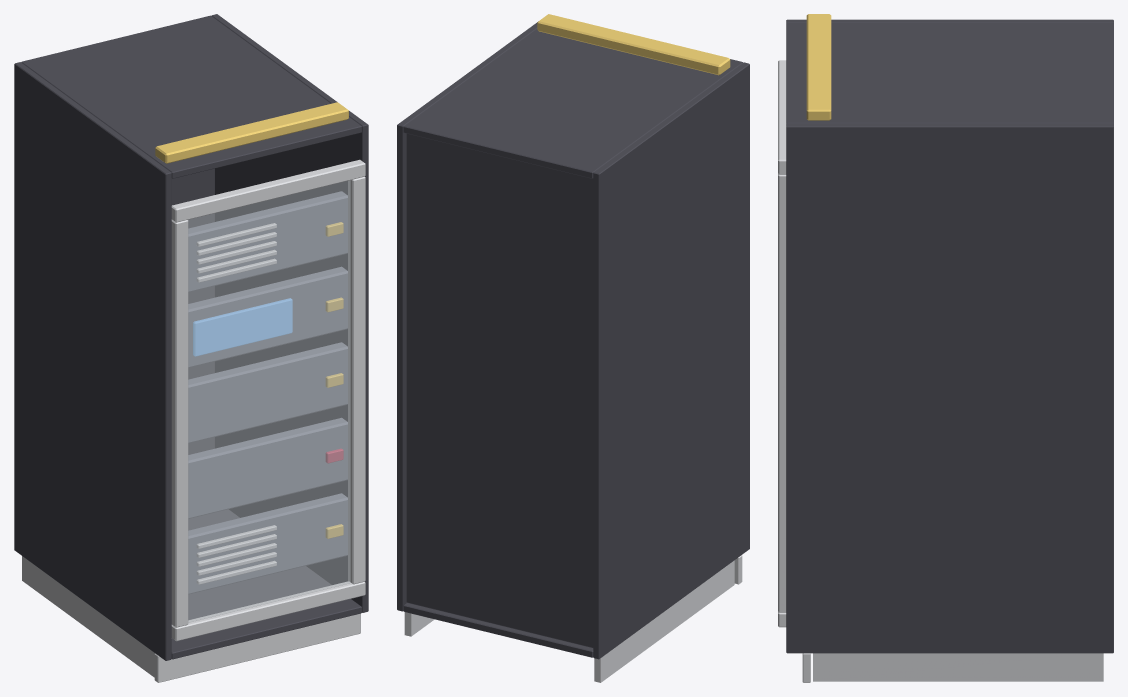
Rendered from cinema-multiplex-and-foyer-projector-server-rack-a24a3778__34662.glb.
The picture shows the model from 3 angles, left to right: view 1: azimuth 30°, elevation 25°; view 2: azimuth 150°, elevation 25°; view 3: azimuth 270°, elevation 25°; orthographic projection. The views are drawn at different scales.
Visible parts, largest first — view 1: projector-server-rack; view 2: projector-server-rack; view 3: projector-server-rack.
Boxes of the visible parts, x1,y1,x2,y2 form: projector-server-rack: [14, 14, 368, 682]; projector-server-rack: [397, 14, 749, 682]; projector-server-rack: [778, 14, 1113, 682].
Bounding box in the file's own units: 0.6199 × 1.53 × 0.82.
